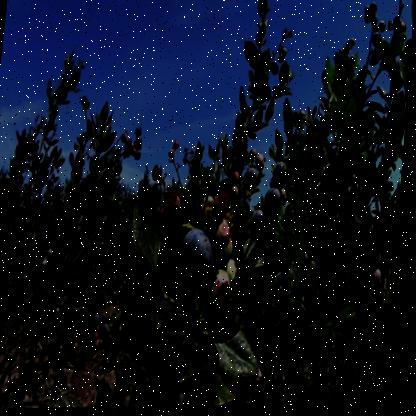intermediate: (216, 190, 233, 225), (165, 193, 187, 219)
mature: (180, 228, 221, 291), (213, 272, 237, 315), (153, 166, 170, 205), (251, 212, 272, 241), (274, 162, 294, 192), (267, 193, 288, 216), (246, 172, 263, 194), (356, 264, 368, 288)
young: (216, 225, 241, 270), (366, 252, 389, 291), (256, 154, 271, 173), (232, 187, 244, 206)
